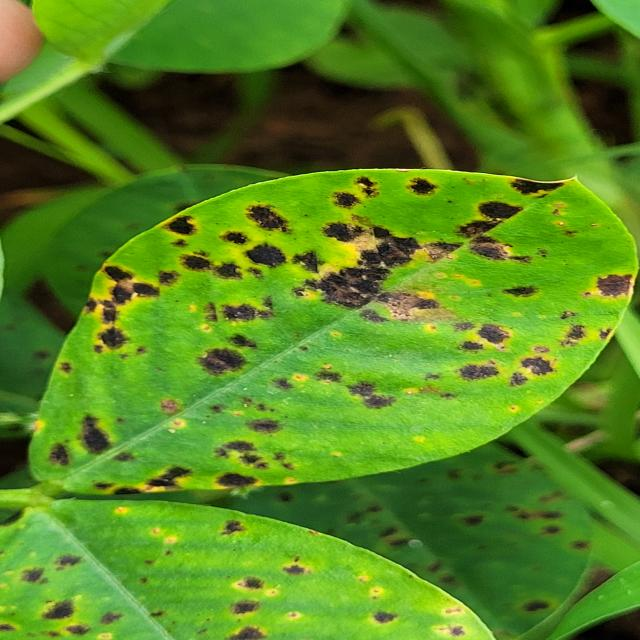Ground nut_tikka leaf spot: (23, 166, 640, 494), (0, 494, 487, 637)
